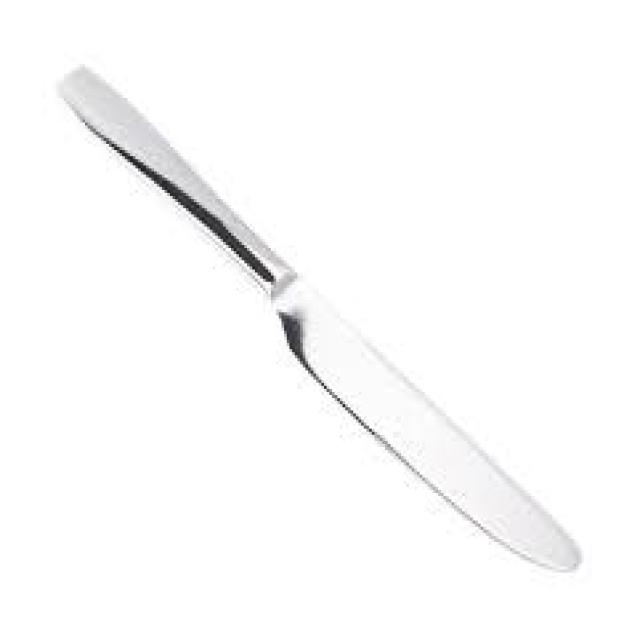Knife: (56, 61, 582, 573)
